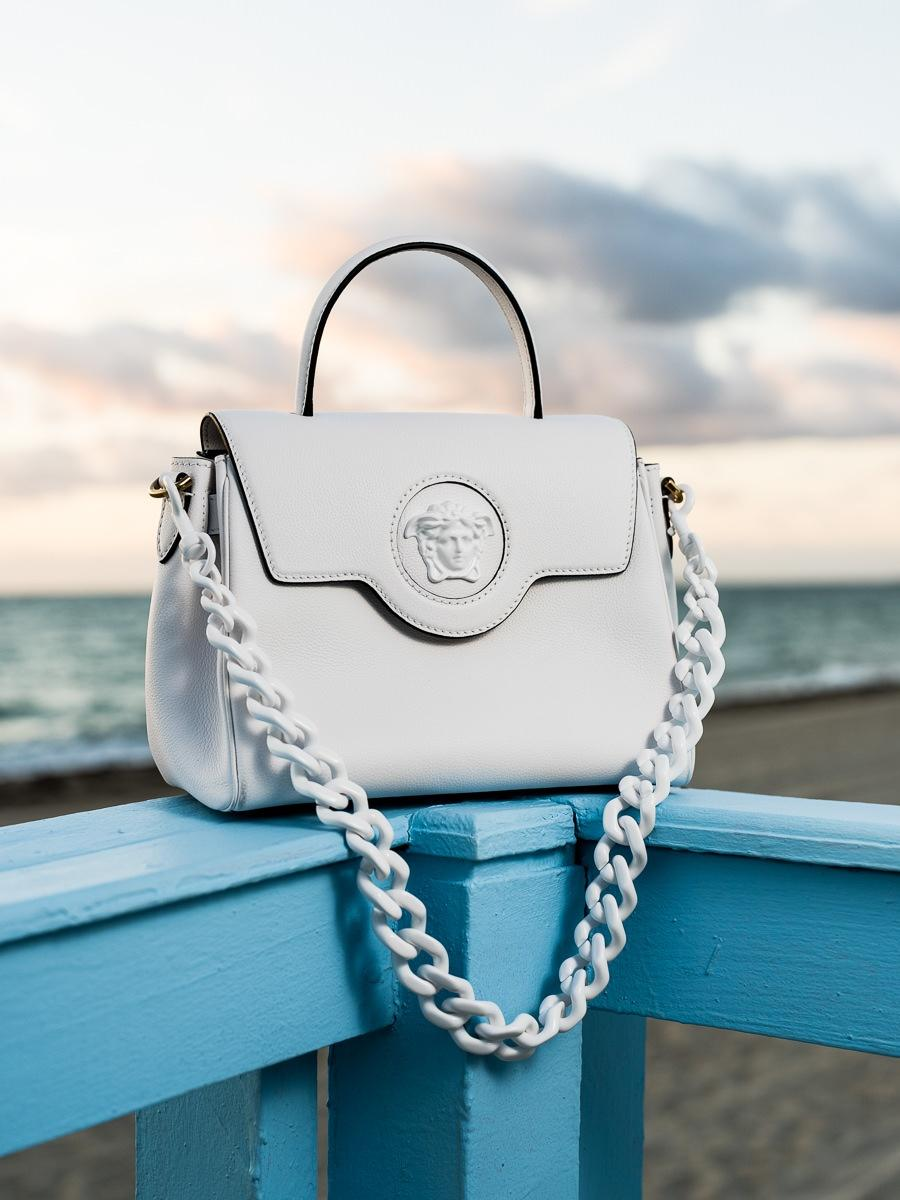VERSACE: (389, 471, 515, 608)
